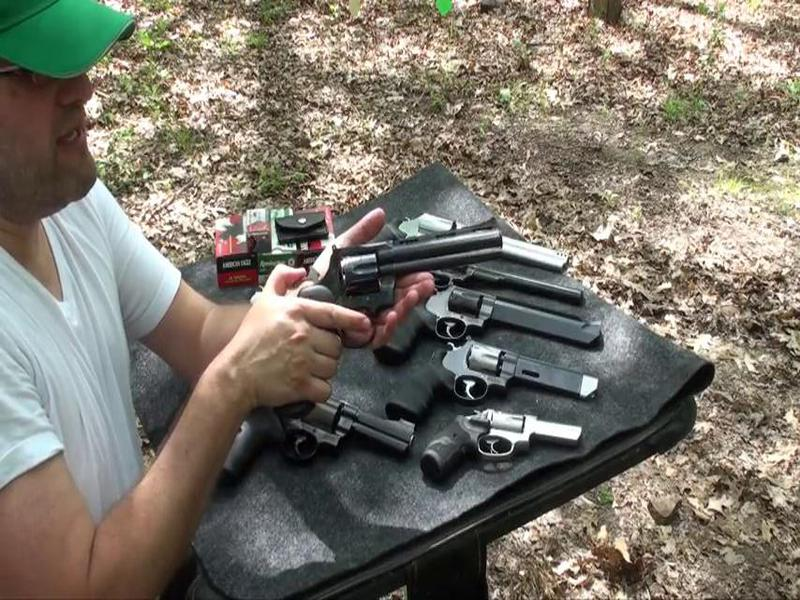Revolver: (306, 212, 507, 344)
